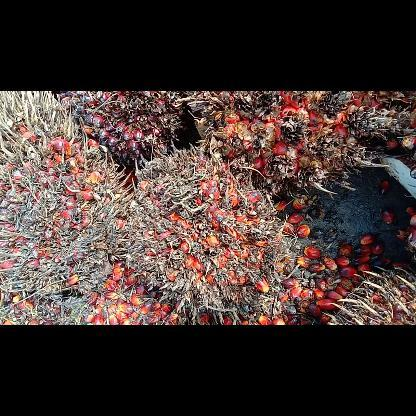Terlalu masak: (121, 142, 303, 324), (0, 90, 136, 308), (186, 91, 400, 204), (67, 90, 189, 172)
